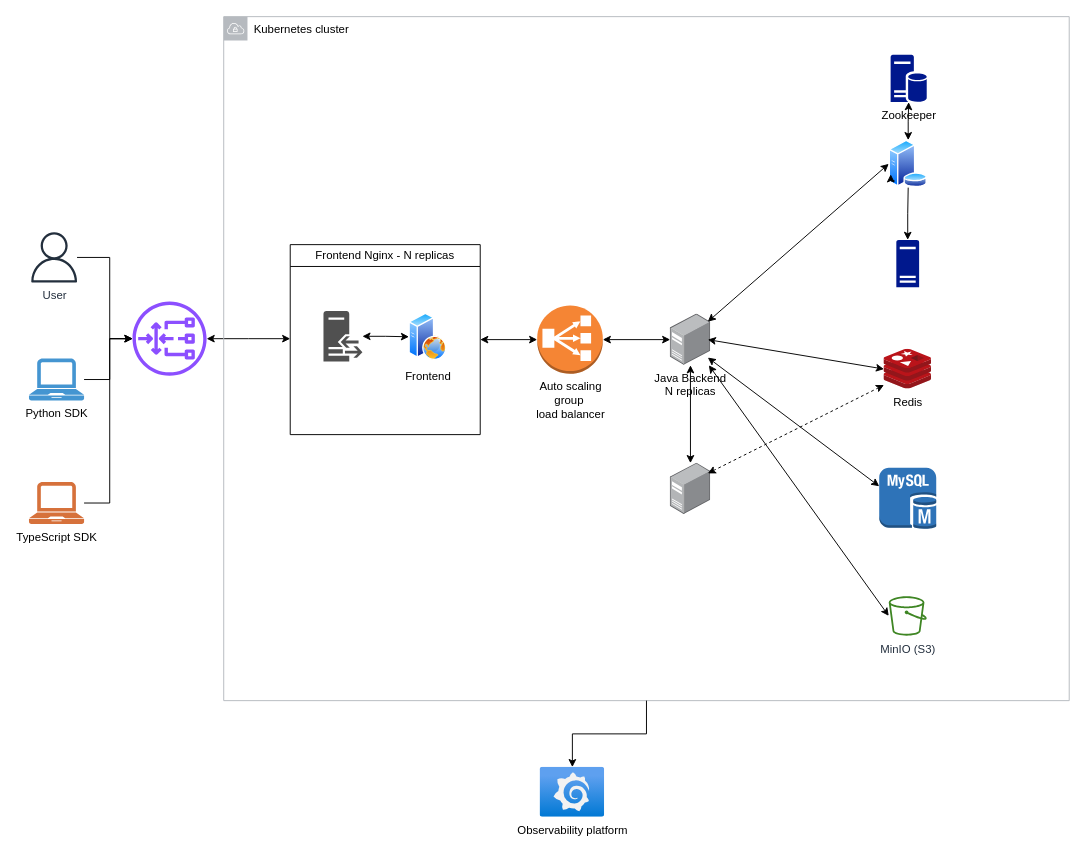
Some shapes in this 1086 by 854 pixel diagram are drawn without their labels. The shapes that lost their labels are listed below. From the top down, each one's centre as x and y in pixels, then its label:
At point (907, 163): "ClickHouse cluster N replicas - N shards".
At point (907, 263): "ClickHouse operator".
At point (169, 338): "Ingress application l oad balancer".
At point (342, 336): "NGINX".
At point (690, 488): "Python Backend N replicas".
At point (907, 498): "MySQL".
